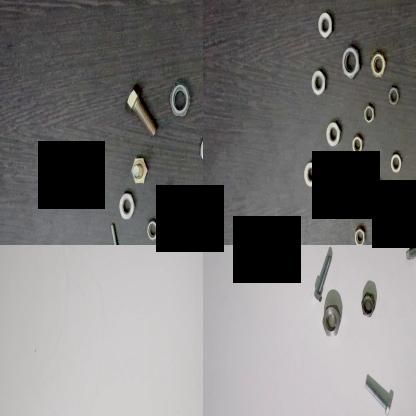Bolts: (124, 77, 160, 137), (362, 374, 393, 414), (311, 245, 331, 305), (128, 152, 147, 186), (103, 218, 123, 245), (154, 184, 170, 214), (170, 219, 185, 245), (401, 245, 416, 260)
NUTS: (168, 72, 191, 121), (338, 41, 362, 83), (320, 302, 342, 338), (356, 284, 376, 319), (114, 190, 134, 224), (324, 188, 342, 224), (301, 158, 319, 192), (314, 6, 332, 40), (324, 117, 342, 150), (310, 68, 327, 102), (368, 48, 386, 80), (144, 214, 158, 242), (353, 216, 366, 245), (350, 131, 364, 157), (362, 97, 374, 126), (386, 82, 399, 108), (389, 209, 404, 231), (368, 179, 382, 201), (390, 150, 402, 174), (197, 129, 203, 167), (195, 231, 203, 245)
